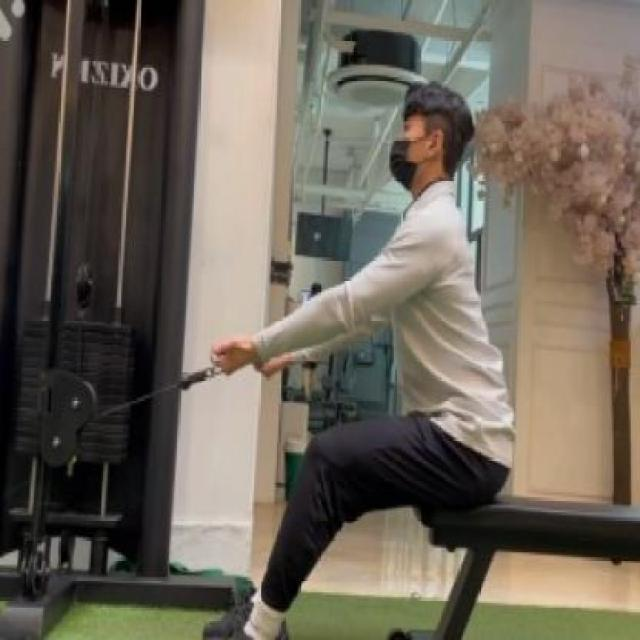Seated Cable Rows: (0, 0, 562, 640)
